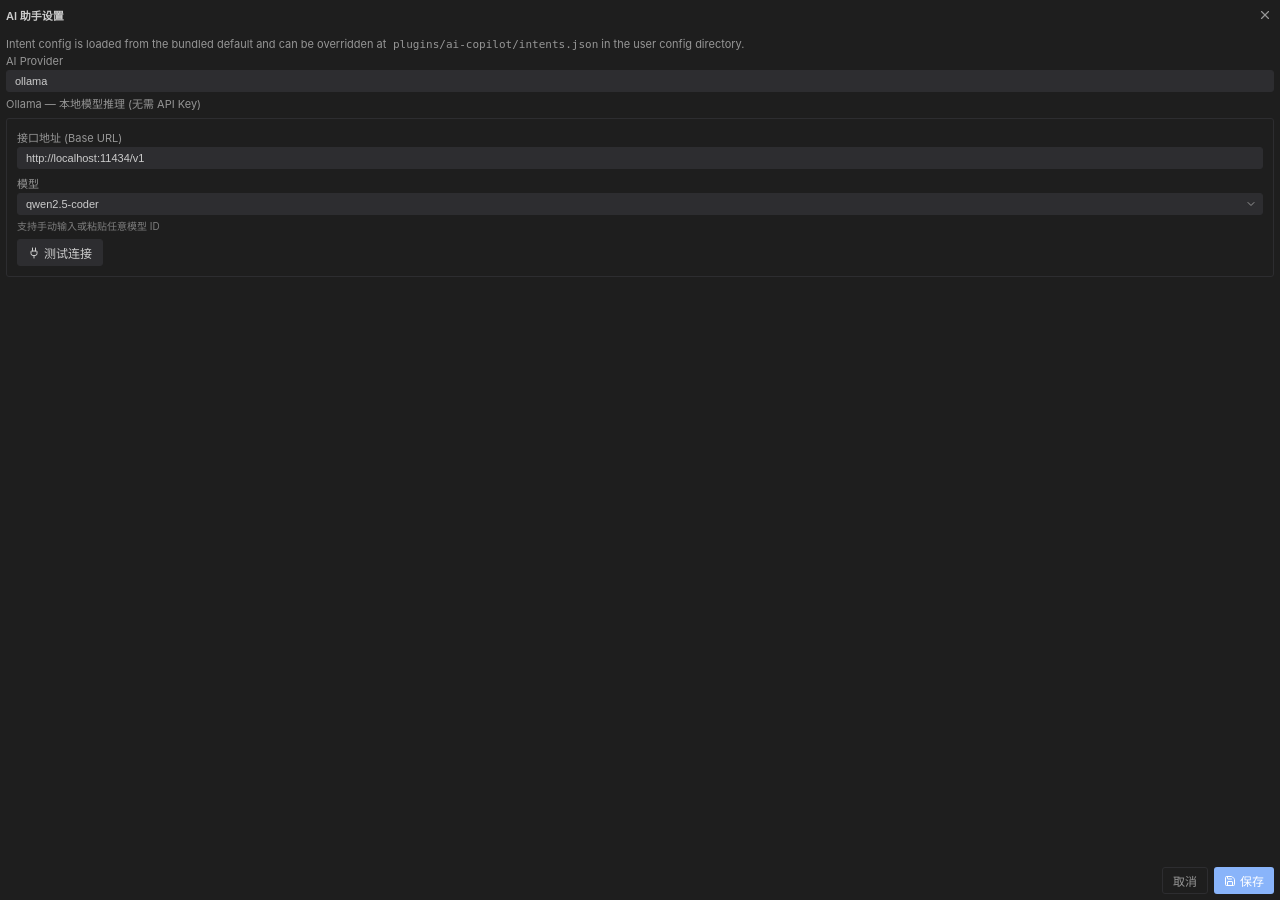
Scenario: SettingsView › auto-fills baseUrl when selecting a preset provider
Replace the text in the field showing "ollama" below "AI Provider" with "openai" at [640, 80], box [6,70,1274,92]
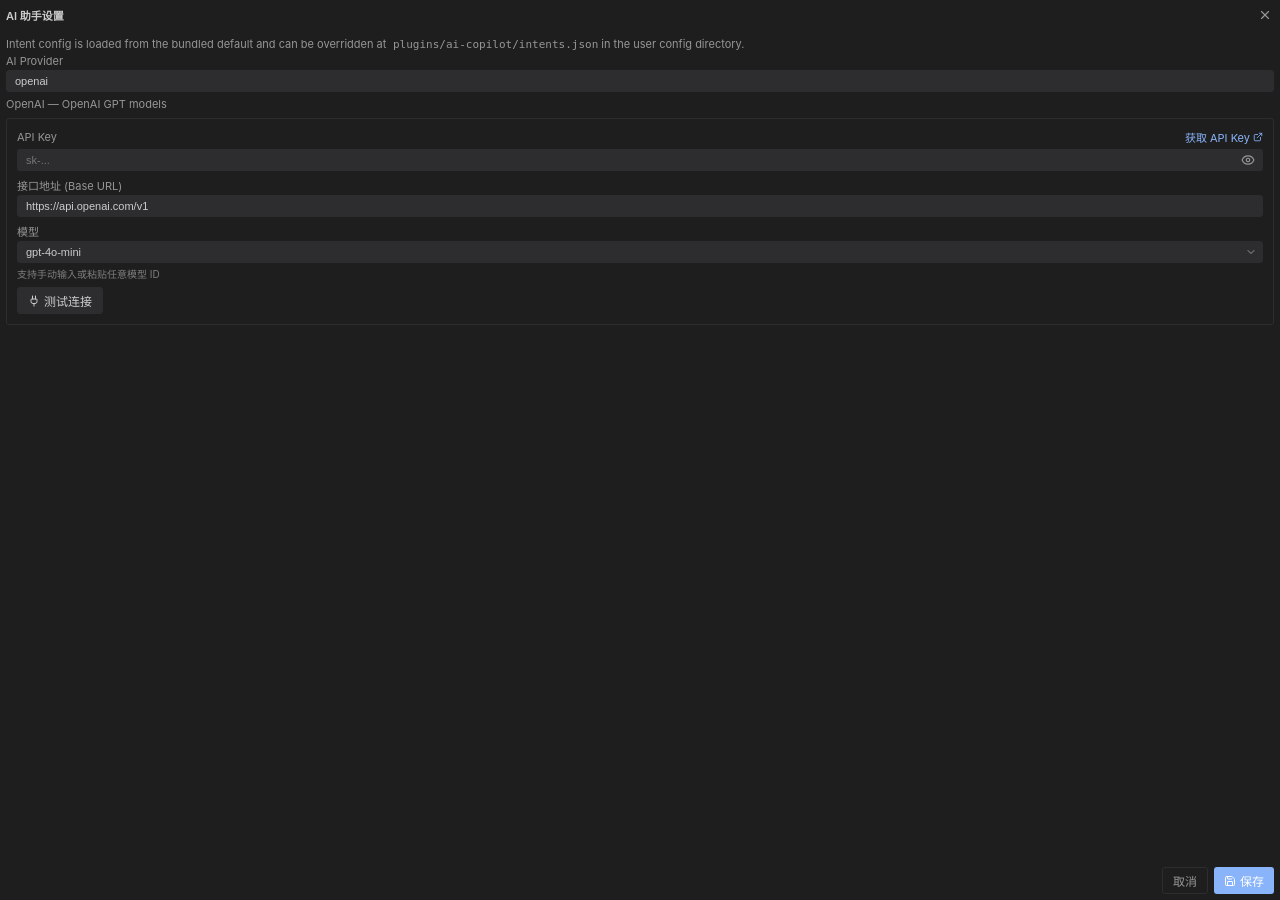
Expected: the field showing "https://api.openai.com/v1" below "接口地址 (Base URL)" is shown, [17,195,1263,217]
